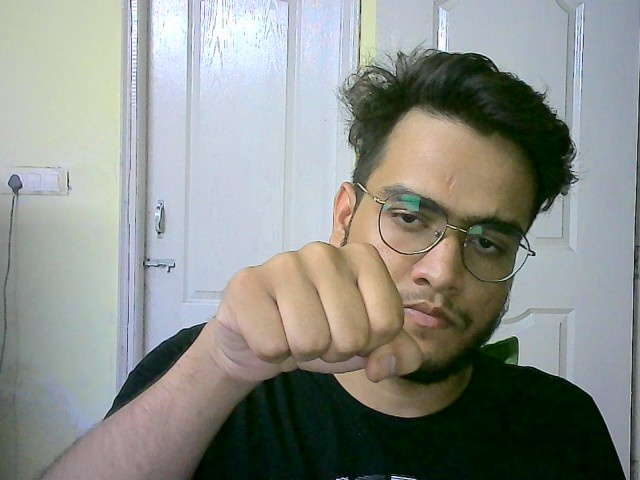Yes: (204, 232, 425, 399)
